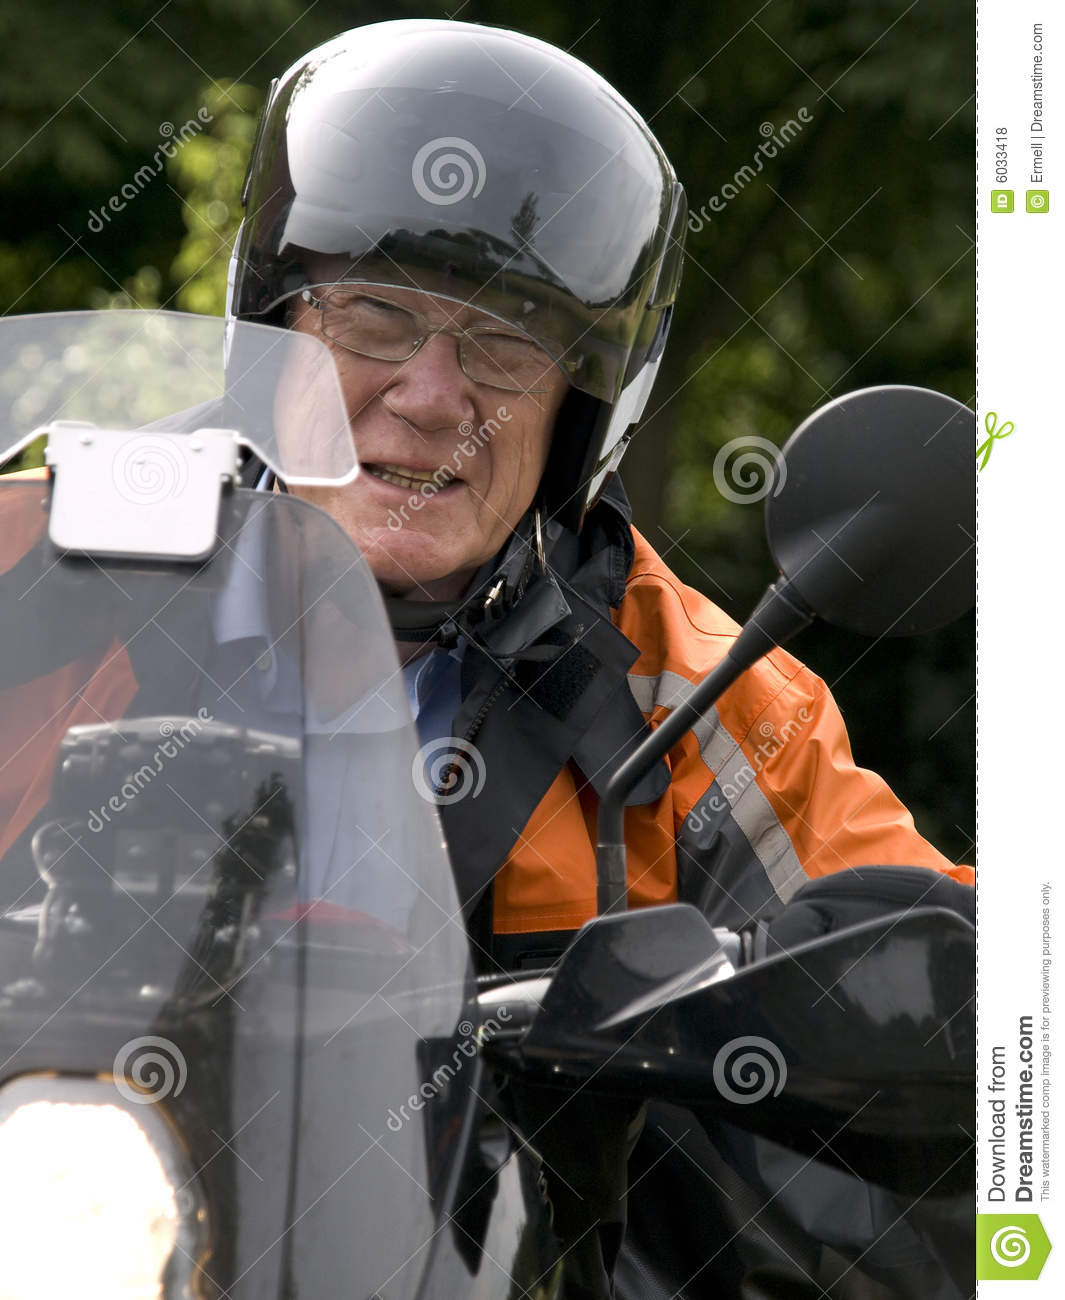helmet: (216, 49, 680, 437)
